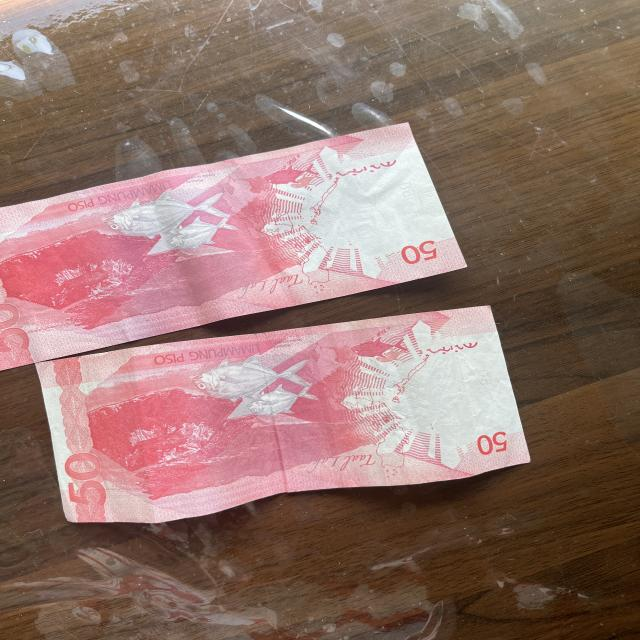50_maliputo: (187, 350, 332, 427), (106, 185, 247, 261)
50_maliputo_watermark: (256, 163, 328, 202), (346, 335, 422, 370)
value_watermark: (467, 364, 499, 394)
watermark: (320, 173, 440, 252), (403, 361, 512, 442)
